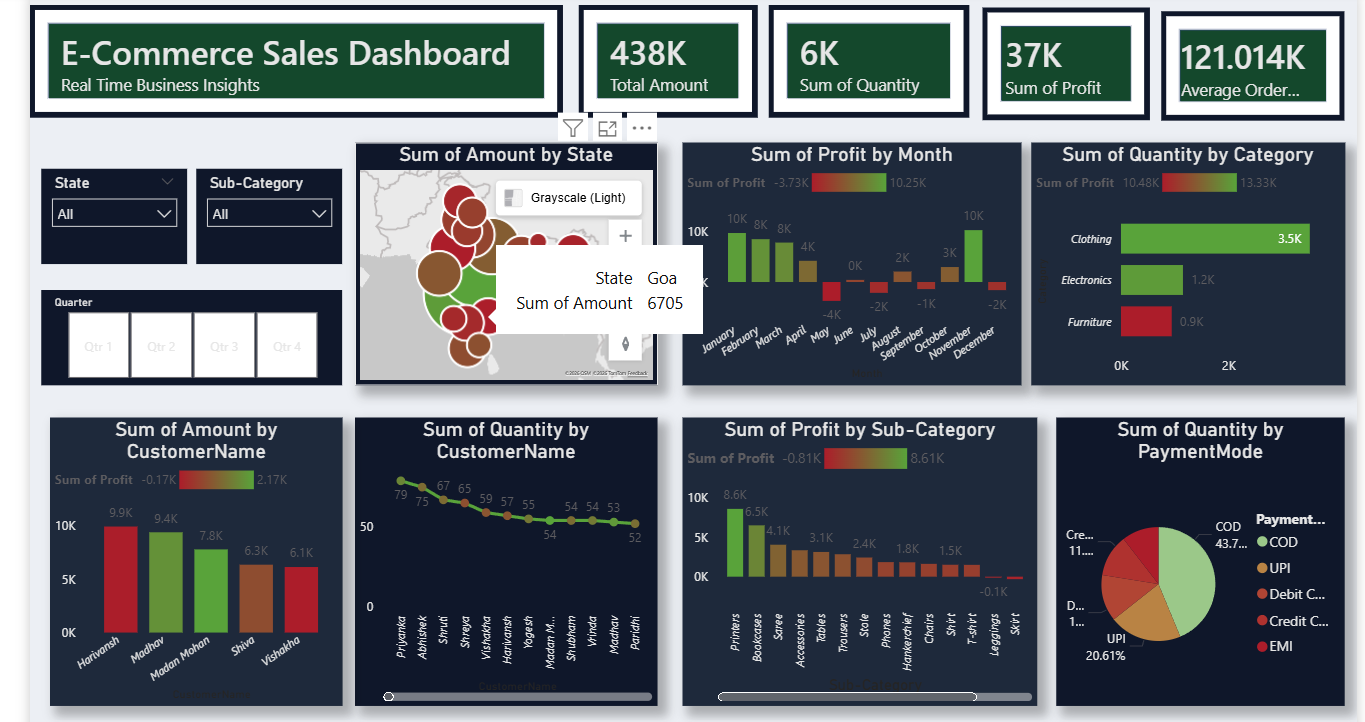

This screenshot's page, from the dashboard's own definition file:
{"tool":"powerbi","page":{"name":"Page 1","canvas":[1280,720],"ordinal":0},"visuals":[{"type":"cardVisual","fields":{"Data":["Details.Project Name"]},"box":[0,9.6,514.6,108.4],"z":0},{"type":"columnChart","fields":{"Y":["Sum(Details.Profit)"],"Category":["Orders.Order Date.Variation.Date Hierarchy.Month"]},"box":[629.8,142.4,326.9,234],"z":1000},{"type":"columnChart","fields":{"Category":["Details.Sub-Category"],"Y":["Sum(Details.Profit)"]},"box":[629.8,407.8,342.6,278.7],"z":2000},{"type":"barChart","fields":{"Category":["Details.Category"],"Y":["Sum(Details.Quantity)"]},"box":[966.4,142.4,302.8,234],"z":3000},{"type":"pieChart","fields":{"Category":["Details.PaymentMode"],"Y":["Sum(Details.Quantity)"]},"box":[990.5,407.8,278.7,278.7],"z":4000},{"type":"cardVisual","fields":{"Data":["Sum(Details.Amount)"]},"box":[529.7,9.6,172.9,108.4],"z":5000},{"type":"cardVisual","fields":{"Data":["Sum(Details.Quantity)"]},"box":[713.6,9.6,193.5,108.4],"z":6000},{"type":"cardVisual","fields":{"Data":["Sum(Details.Profit)"]},"box":[919.4,12.3,161.9,108.4],"z":7000},{"type":"cardVisual","fields":{"Data":["Sum(Details.Average Order Value)"]},"box":[1092.3,15.1,177,105.7],"z":8000},{"type":"lineChart","fields":{"Category":["Orders.CustomerName"],"Y":["Sum(Details.Quantity)"]},"box":[313.7,407.8,292,278.7],"z":9000},{"type":"azureMap","fields":{"Category":["Orders.State"],"Size":["Sum(Details.Amount)"]},"box":[313.7,142.4,292,234],"z":10000},{"type":"columnChart","fields":{"Category":["Orders.CustomerName"],"Y":["Sum(Details.Amount)"]},"box":[19.2,407.5,282.7,278.6],"z":11000},{"type":"slicer","fields":{"Values":["Orders.State"]},"box":[10.9,167.7,141.2,91.7],"z":12000},{"type":"slicer","fields":{"Values":["Details.Sub-Category"]},"box":[160.5,167.7,141.2,91.7],"z":13000},{"type":"slicer","fields":{"Values":["Orders.Order Date.Variation.Date Hierarchy.Quarter"]},"box":[10.9,284.7,290.8,91.7],"z":14000}]}

Visuals, with their boxes in screenshot pixels (x1, y1, x2, y2):
cardVisual - Details.Project Name: pyautogui.locateOnScreen(36, 3, 563, 114)
columnChart - Sum(Details.Profit) x Orders.Order Date.Variation.Date Hierarchy.Month: pyautogui.locateOnScreen(681, 139, 1016, 379)
columnChart - Details.Sub-Category x Sum(Details.Profit): pyautogui.locateOnScreen(681, 411, 1032, 696)
barChart - Details.Category x Sum(Details.Quantity): pyautogui.locateOnScreen(1026, 139, 1336, 379)
pieChart - Details.PaymentMode x Sum(Details.Quantity): pyautogui.locateOnScreen(1051, 411, 1336, 696)
cardVisual - Sum(Details.Amount): pyautogui.locateOnScreen(578, 3, 756, 114)
cardVisual - Sum(Details.Quantity): pyautogui.locateOnScreen(767, 3, 965, 114)
cardVisual - Sum(Details.Profit): pyautogui.locateOnScreen(978, 5, 1144, 117)
cardVisual - Sum(Details.Average Order Value): pyautogui.locateOnScreen(1155, 8, 1336, 117)
lineChart - Orders.CustomerName x Sum(Details.Quantity): pyautogui.locateOnScreen(357, 411, 656, 696)
azureMap - Orders.State x Sum(Details.Amount): pyautogui.locateOnScreen(357, 139, 656, 379)
columnChart - Orders.CustomerName x Sum(Details.Amount): pyautogui.locateOnScreen(55, 410, 345, 696)
slicer - Orders.State: pyautogui.locateOnScreen(47, 165, 191, 259)
slicer - Details.Sub-Category: pyautogui.locateOnScreen(200, 165, 345, 259)
slicer - Orders.Order Date.Variation.Date Hierarchy.Quarter: pyautogui.locateOnScreen(47, 285, 345, 379)
